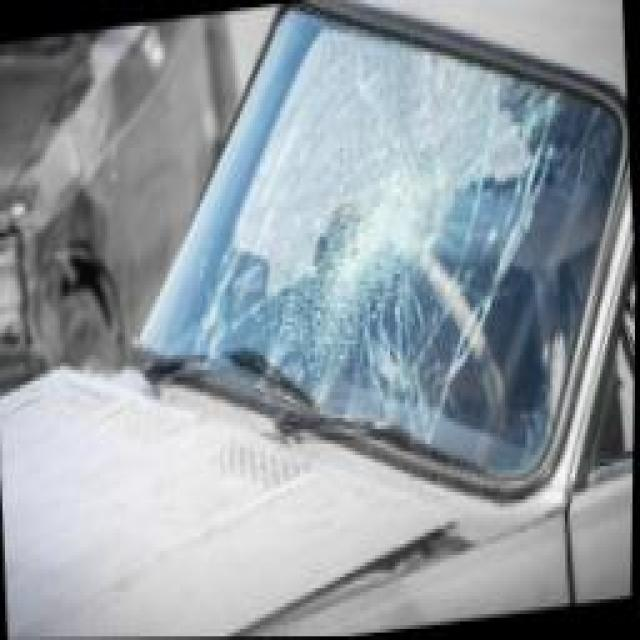Bumper: (139, 15, 626, 473)
